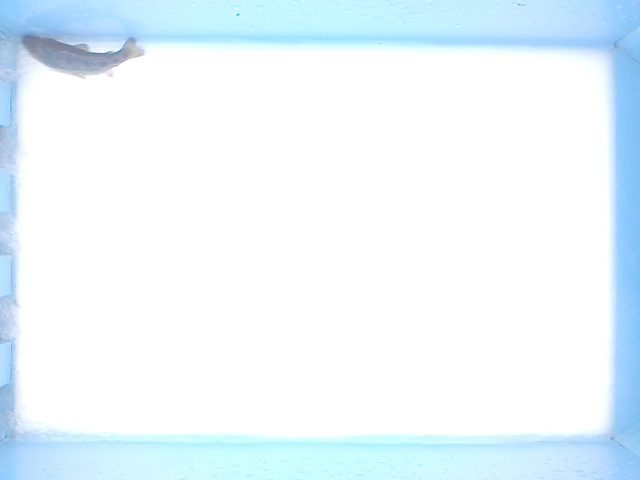fish: (16, 31, 148, 81)
